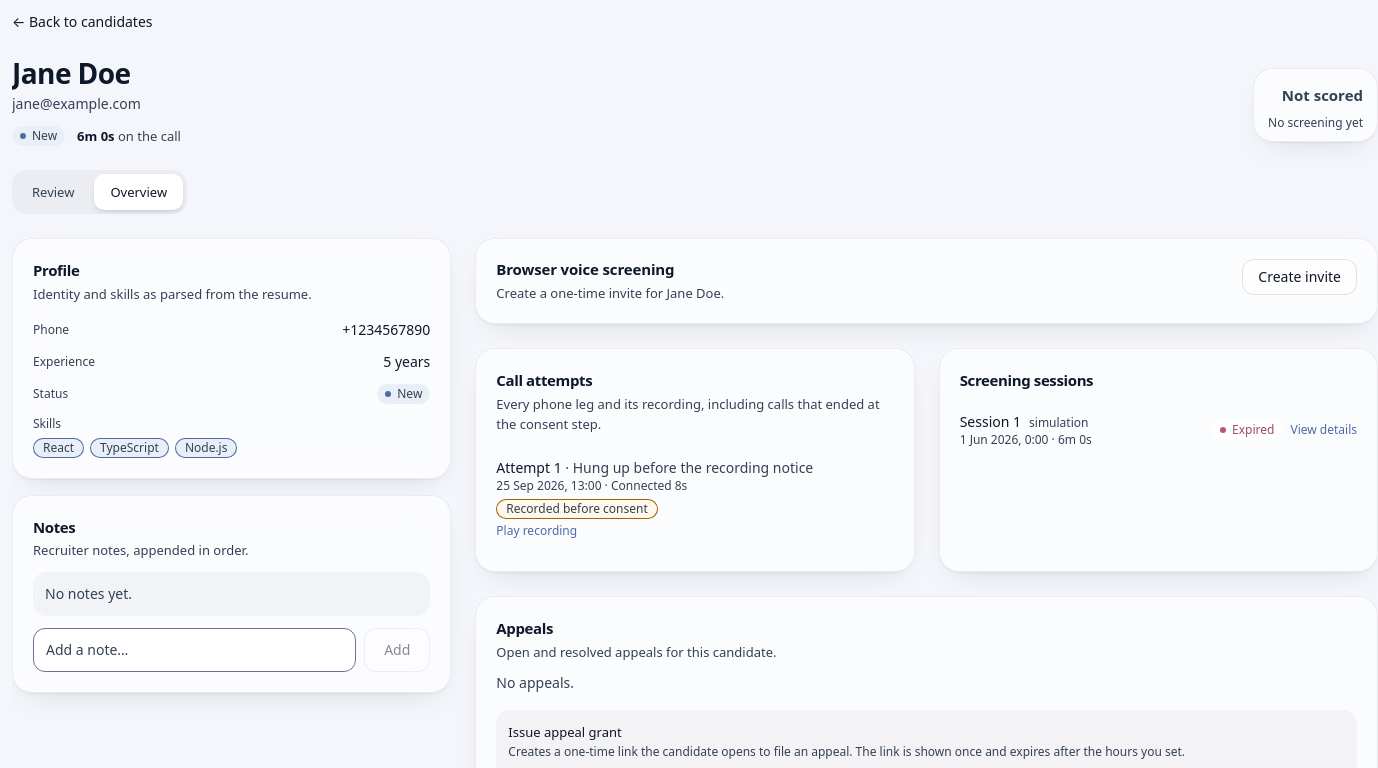
Test: CandidateDetailPage tabs › call recordings before a completed screening (M011 F2) › lists the recordings in the Review tab from ONE shared attempt fetch
The image size is (1378, 768).
Expected: the heading "Jane Doe" is shown, [12,54,130,92]
Click the tab "Review": click(53, 192) [16,174,90,210]
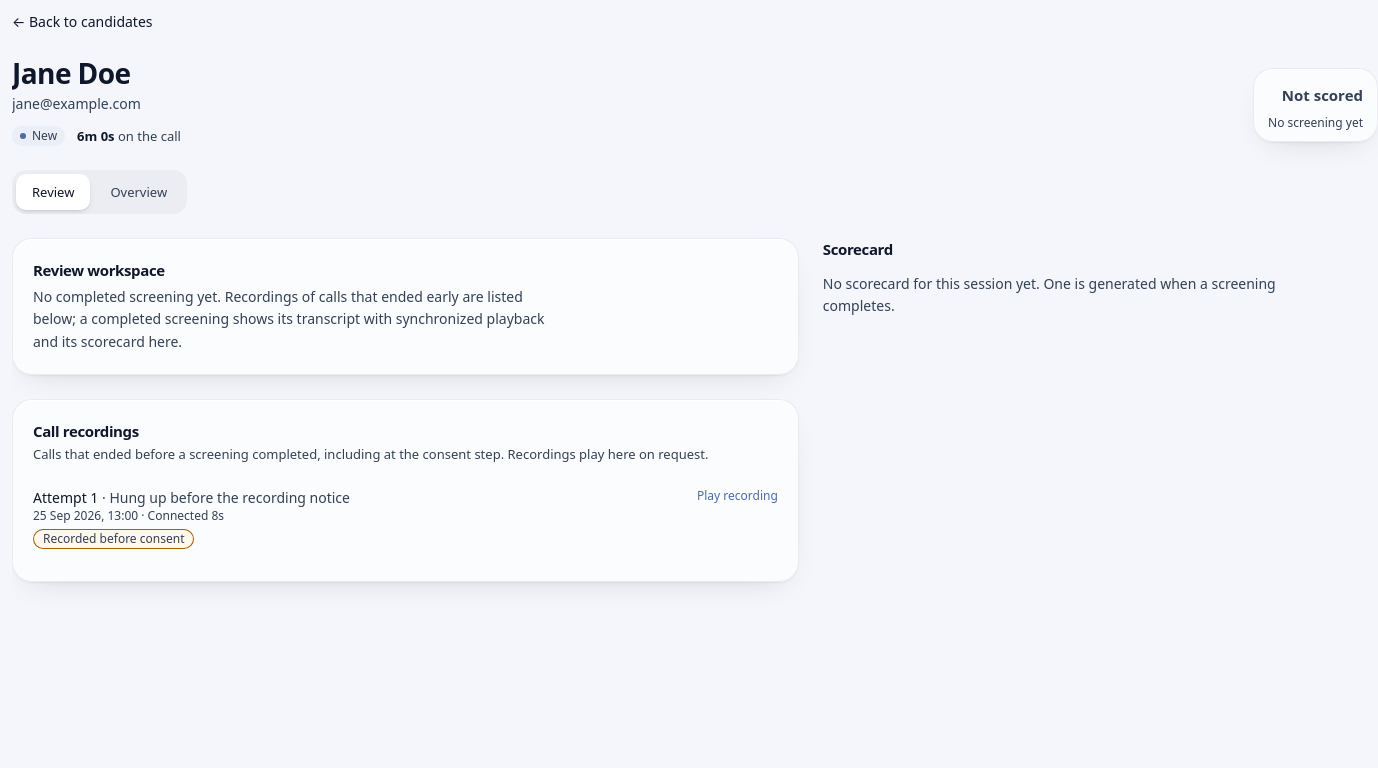
Expected: the text "Recorded before consent" is shown, [33,529,194,549]
Expected: the heading "Call recordings" is shown, [33,421,139,441]
Expected: the text "No completed screening yet" is shown, [33,286,544,351]
Note: Switching back and forth never refetches either.
Click the tab "Overview": click(139, 192) [94,174,183,210]
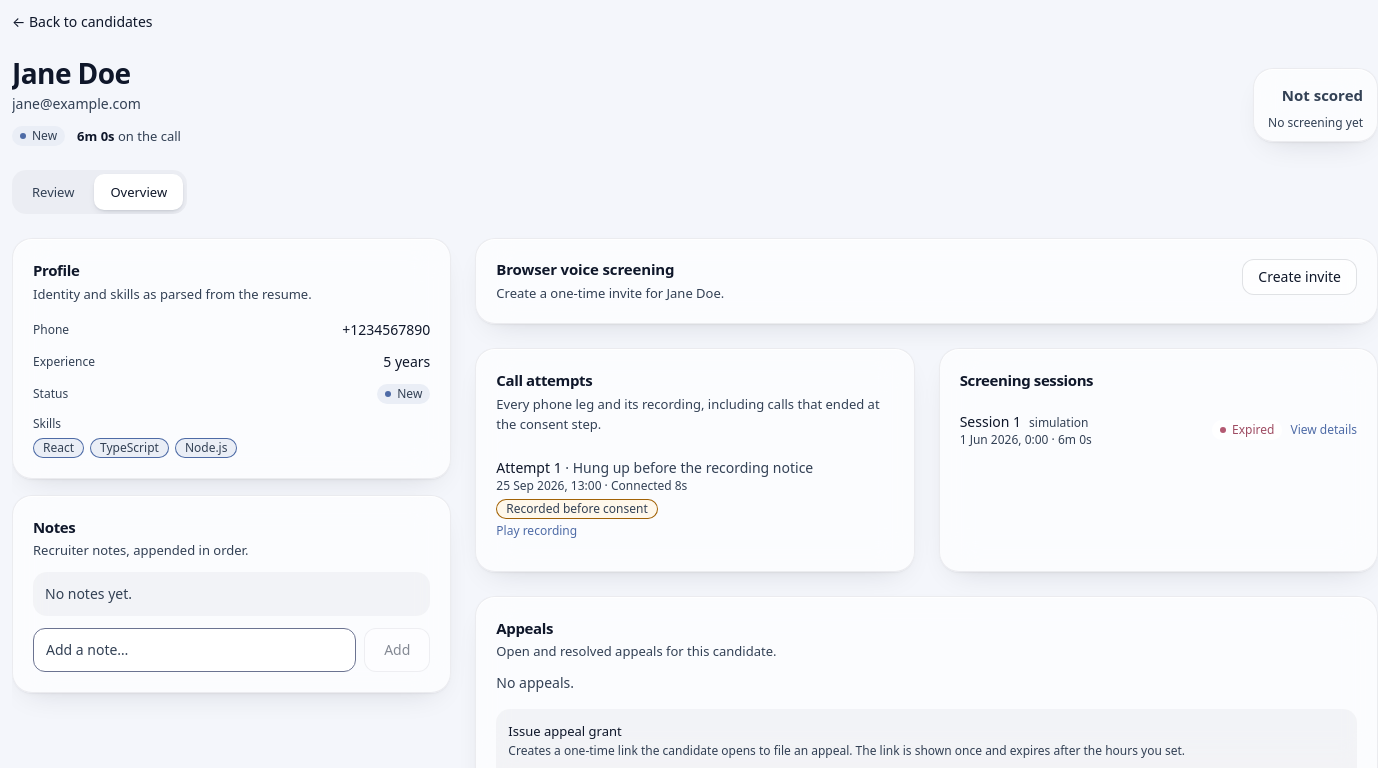
Click the tab "Review": click(53, 192) [16,174,90,210]
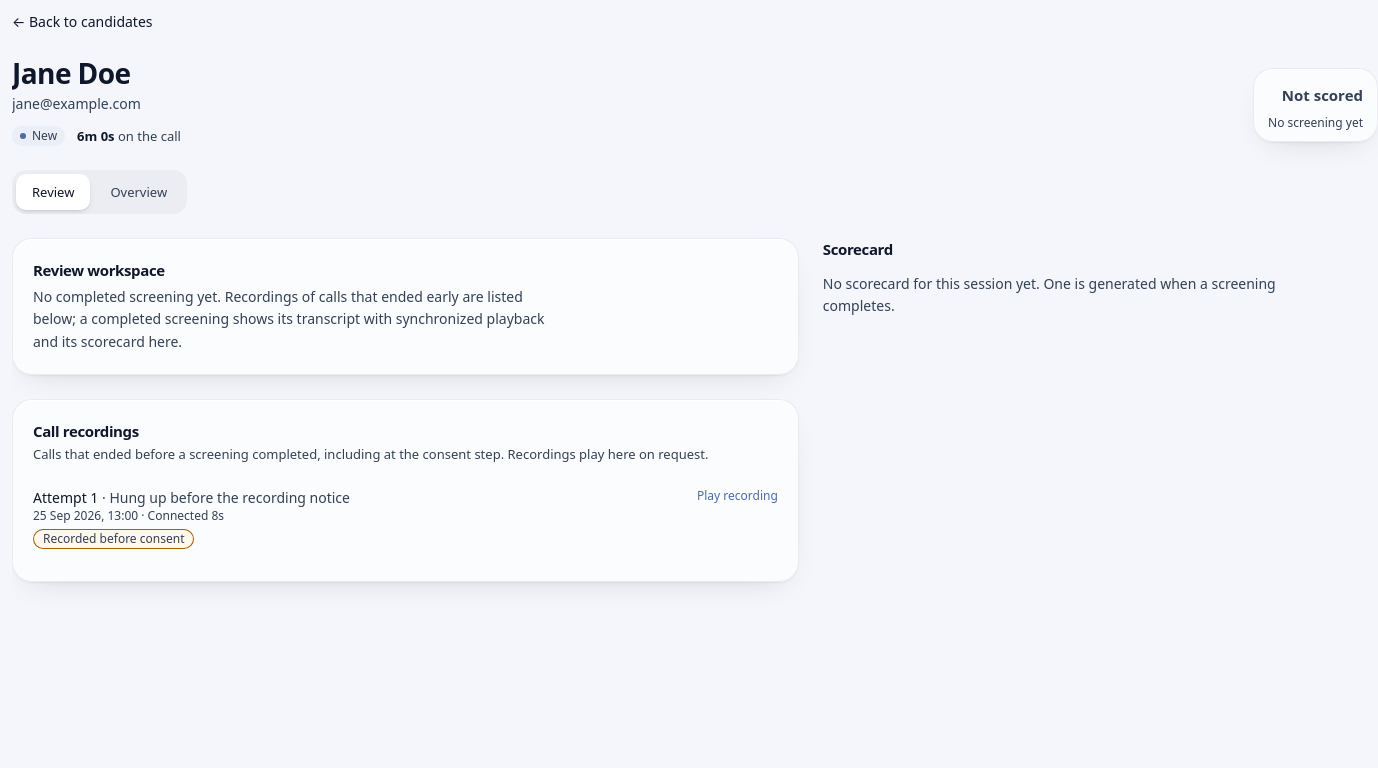
Expected: the heading "Call recordings" is shown, [33,421,139,441]
